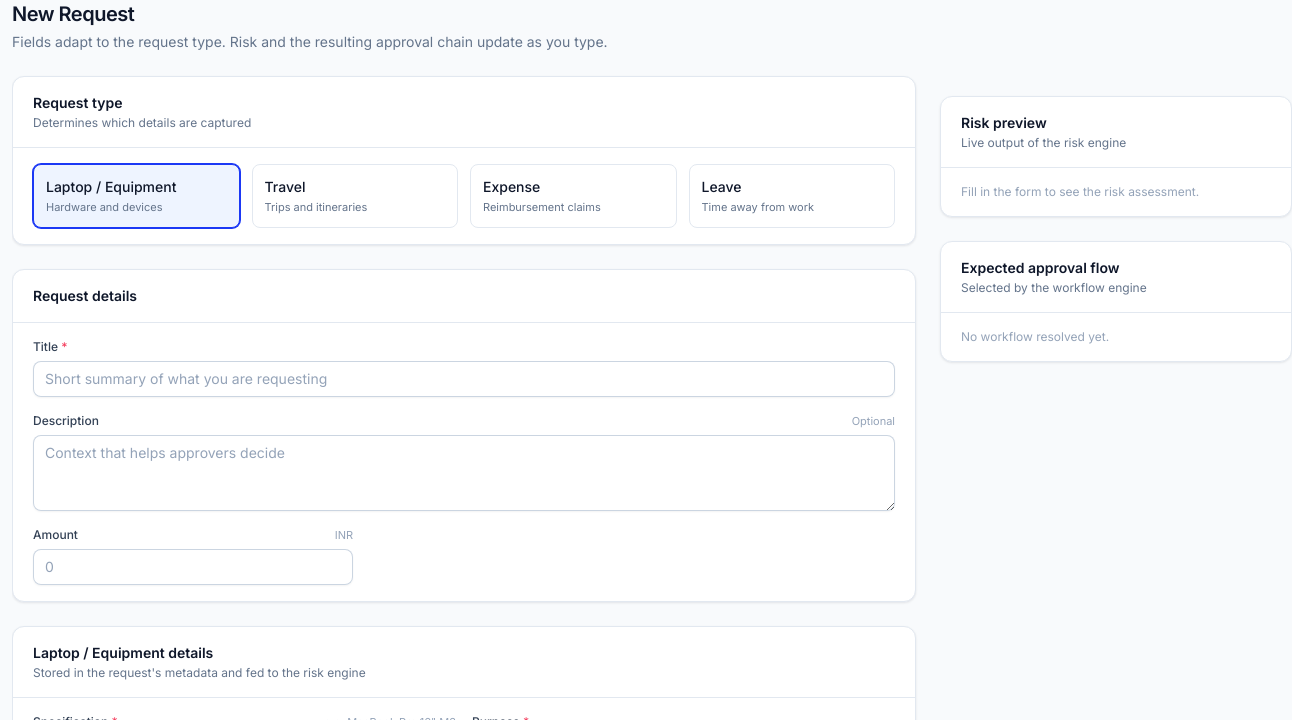
Test: Raise a request › names each missing type-specific field in the validation message
In the field labelled "Title *": (464, 379) [33,361,895,397], type "New laptop for the ML team"
(page scrolled)
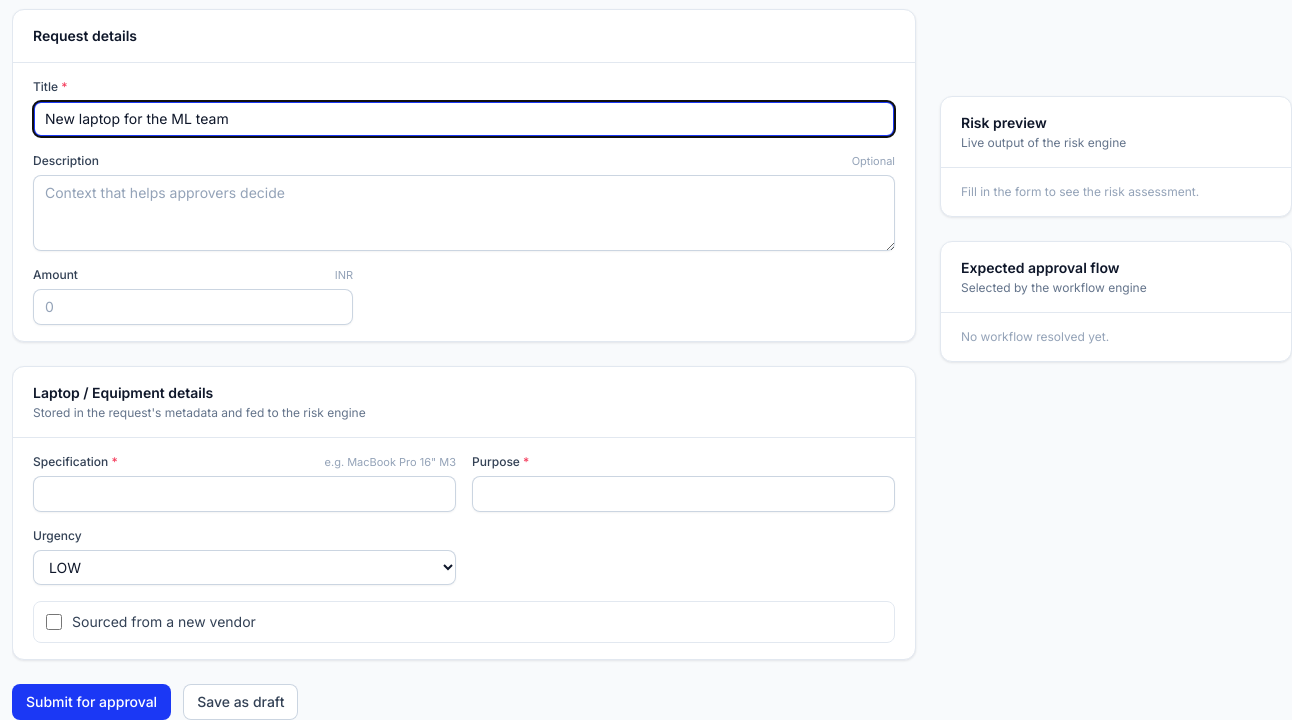
Click the button "Submit for approval": (92, 702) [12,684,171,719]
(page scrolled)
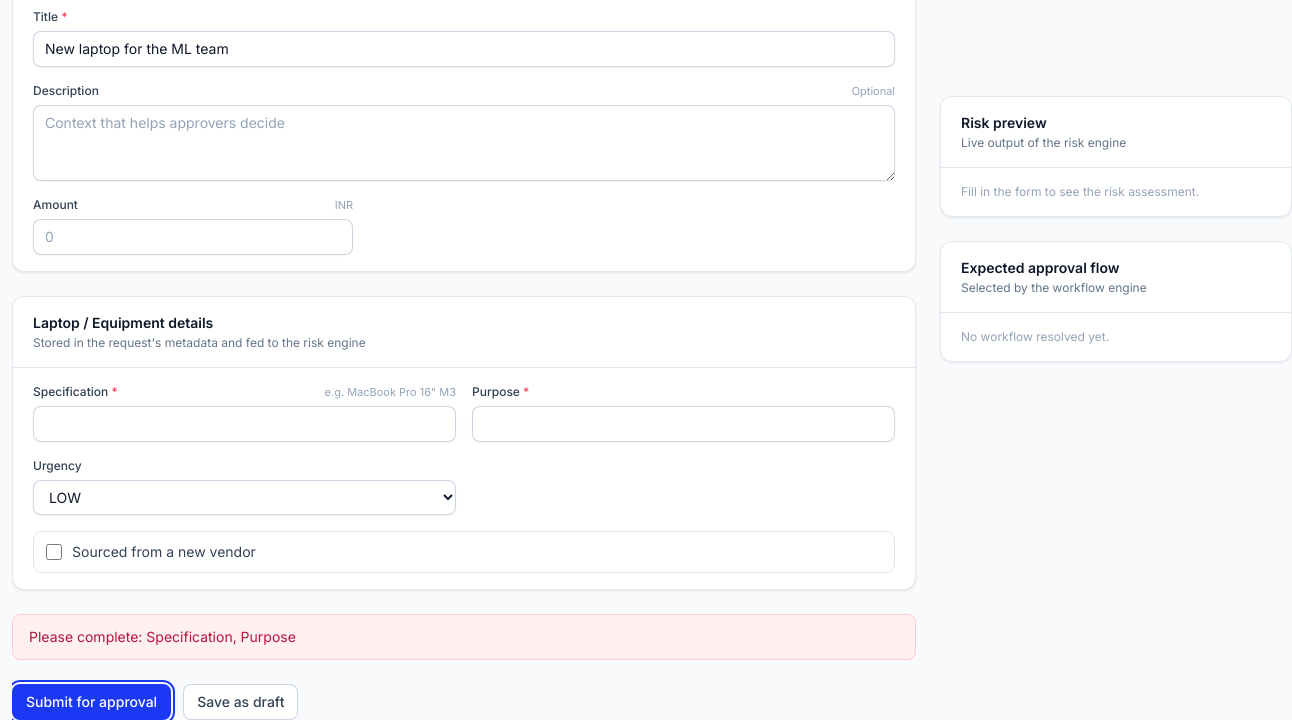
Now the text "Please complete: Specification, Purpose" is shown, box [12,614,916,660]
